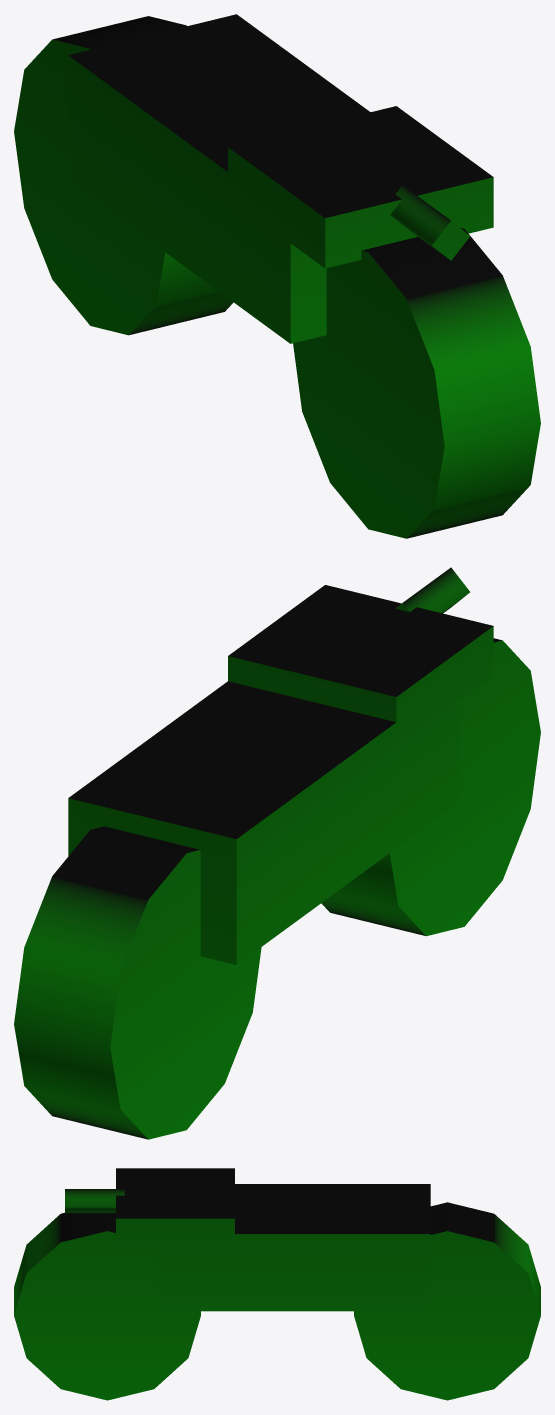
Rendered from motorcycle.glb.
3 views of the same model, one above another, from view 1: azimuth 30°, elevation 25°; view 2: azimuth 150°, elevation 25°; view 3: azimuth 270°, elevation 25° (orthographic). The views are drawn at different scales.
Visible parts, largest first — view 1: lod0; view 2: lod0; view 3: lod0.
Boxes of the visible parts, x1,y1,x2,y2 form: lod0: (14,14,540,538); lod0: (14,567,540,1139); lod0: (14,1168,540,1400).
Size of what is drawn, in the model's own units: 0.7 by 1.28 by 3.1.
